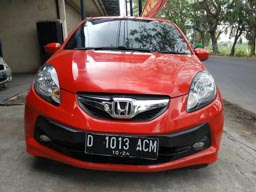plat: (84, 132, 157, 152)
